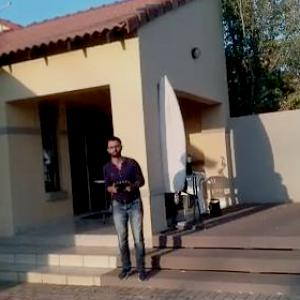follow: (102, 132, 153, 284)
